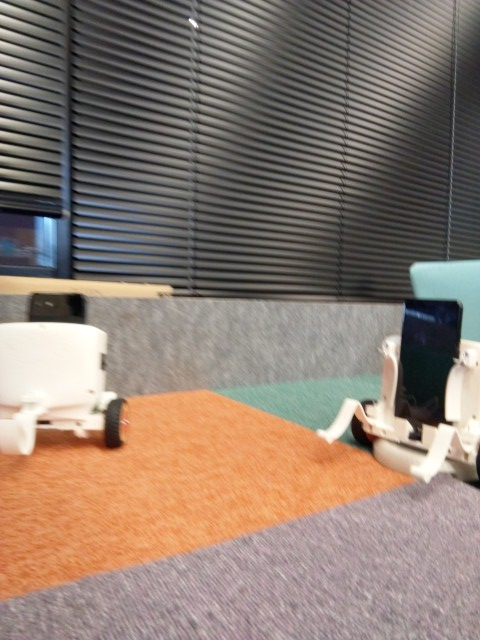br: (1, 291, 151, 458)
f: (314, 285, 480, 491)
